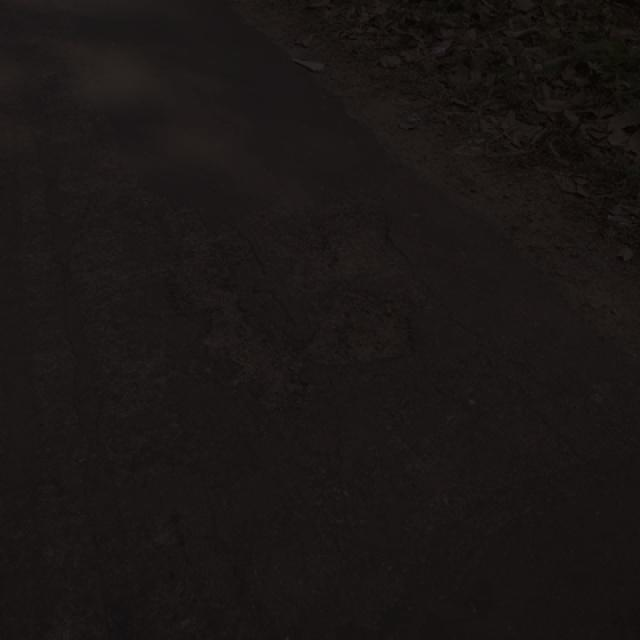Pothole: (161, 200, 427, 410)
